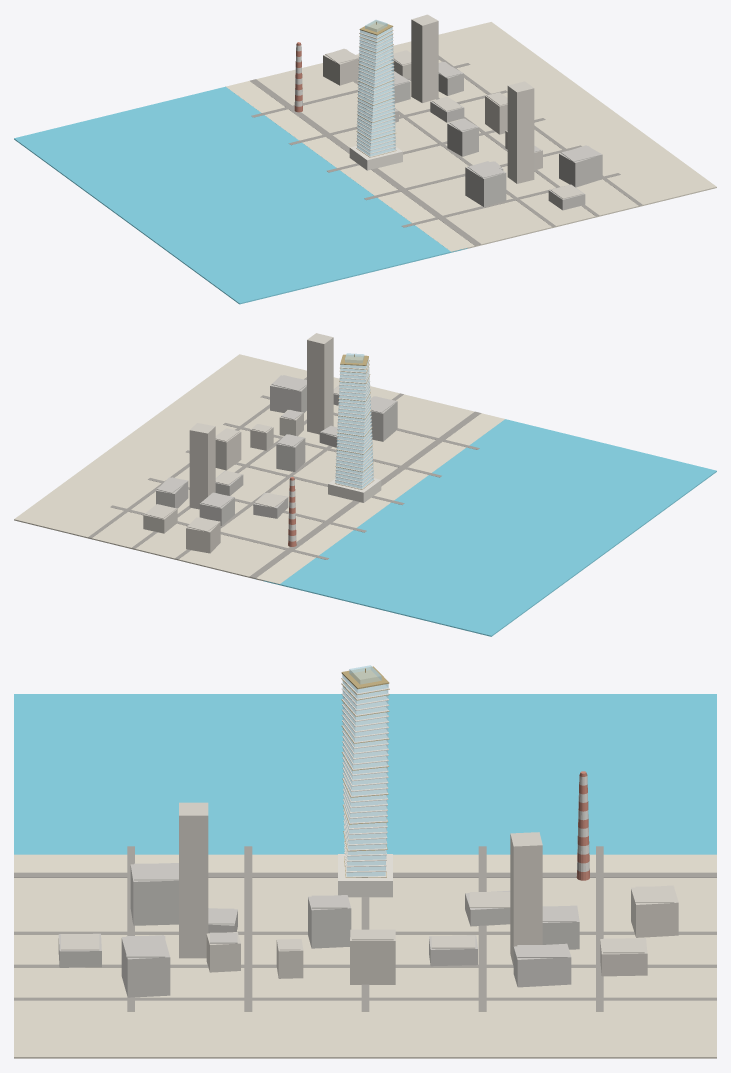
File: rainbow.glb
The picture shows the model from 3 angles, top to bottom: view 1: azimuth 30°, elevation 25°; view 2: azimuth 150°, elevation 25°; view 3: azimuth 270°, elevation 25°; orthographic projection. The views are drawn at different scales.
Visible parts, largest first — view 1: scene; view 2: scene; view 3: scene.
Boxes of the visible parts, x1,y1,x2,y2 form: scene: (14,14,716,304); scene: (14,333,716,636); scene: (14,665,716,1058).
Bounding box in the file's own units: 440 × 122 × 360.
